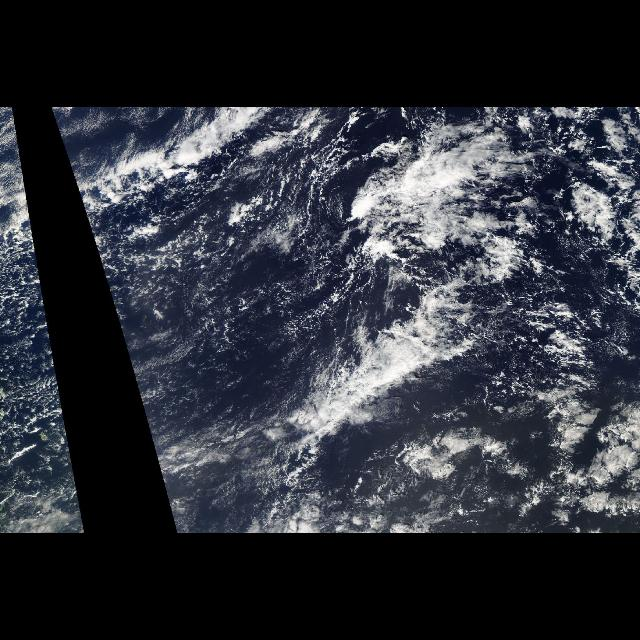Flower: (232, 349, 640, 533)
